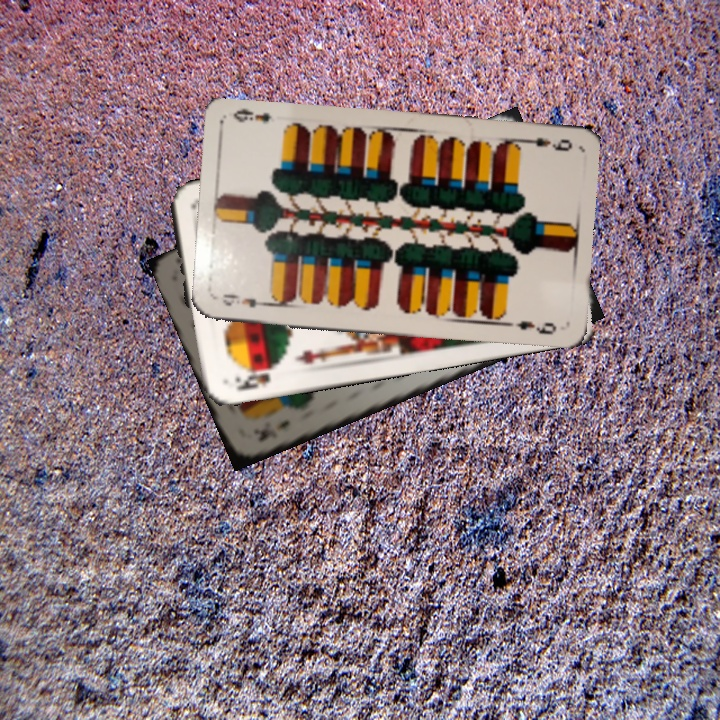E9: (516, 133, 575, 154), (218, 289, 273, 311)
EK: (254, 416, 293, 444)
SK: (231, 361, 282, 393)
